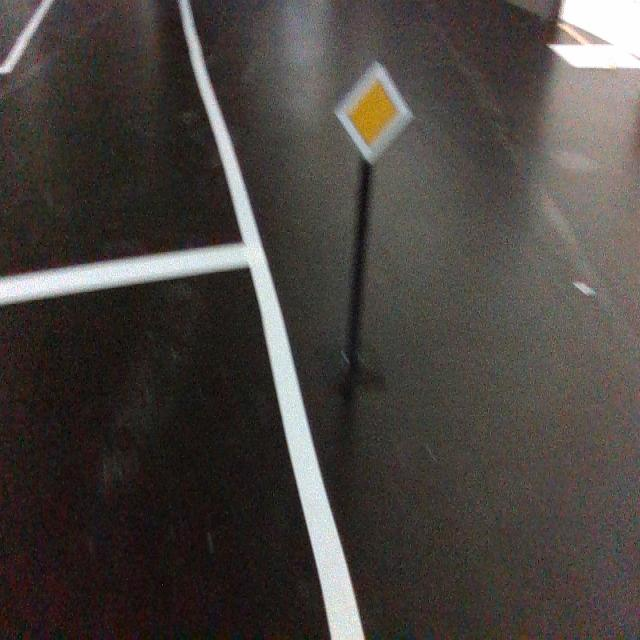priority-sign: (334, 60, 414, 166)
